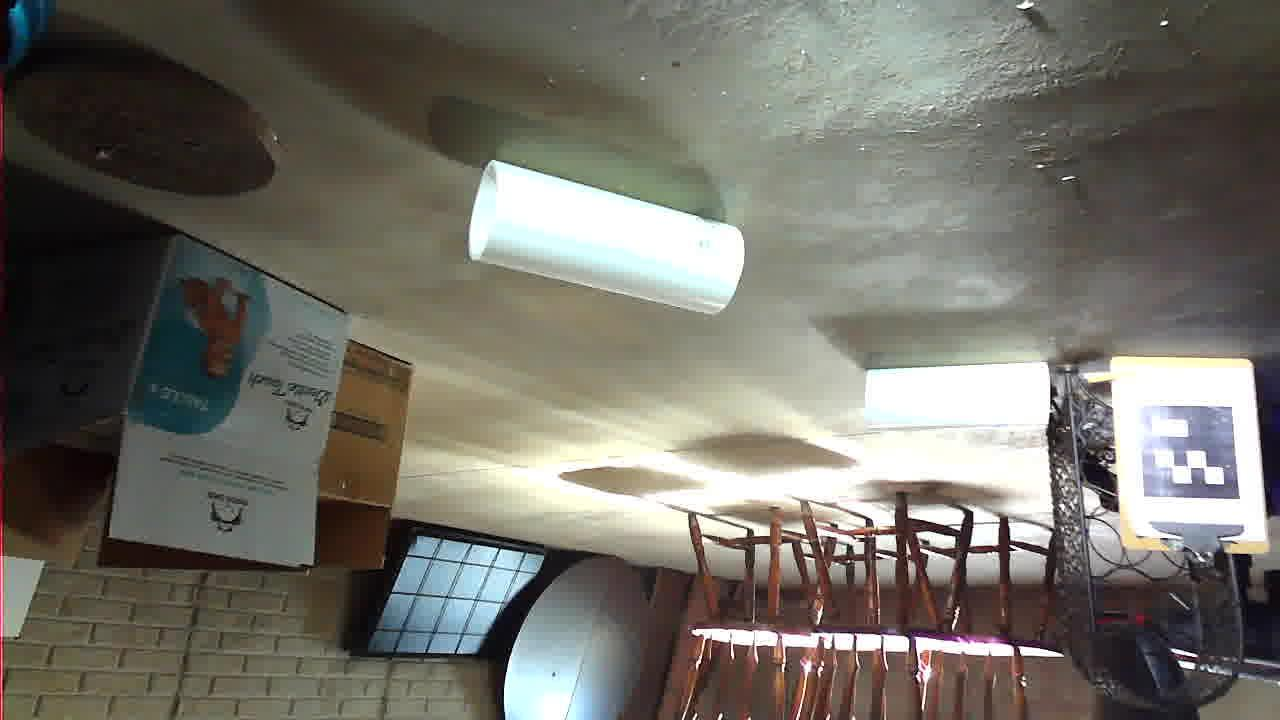coral: (530, 399, 817, 564)
